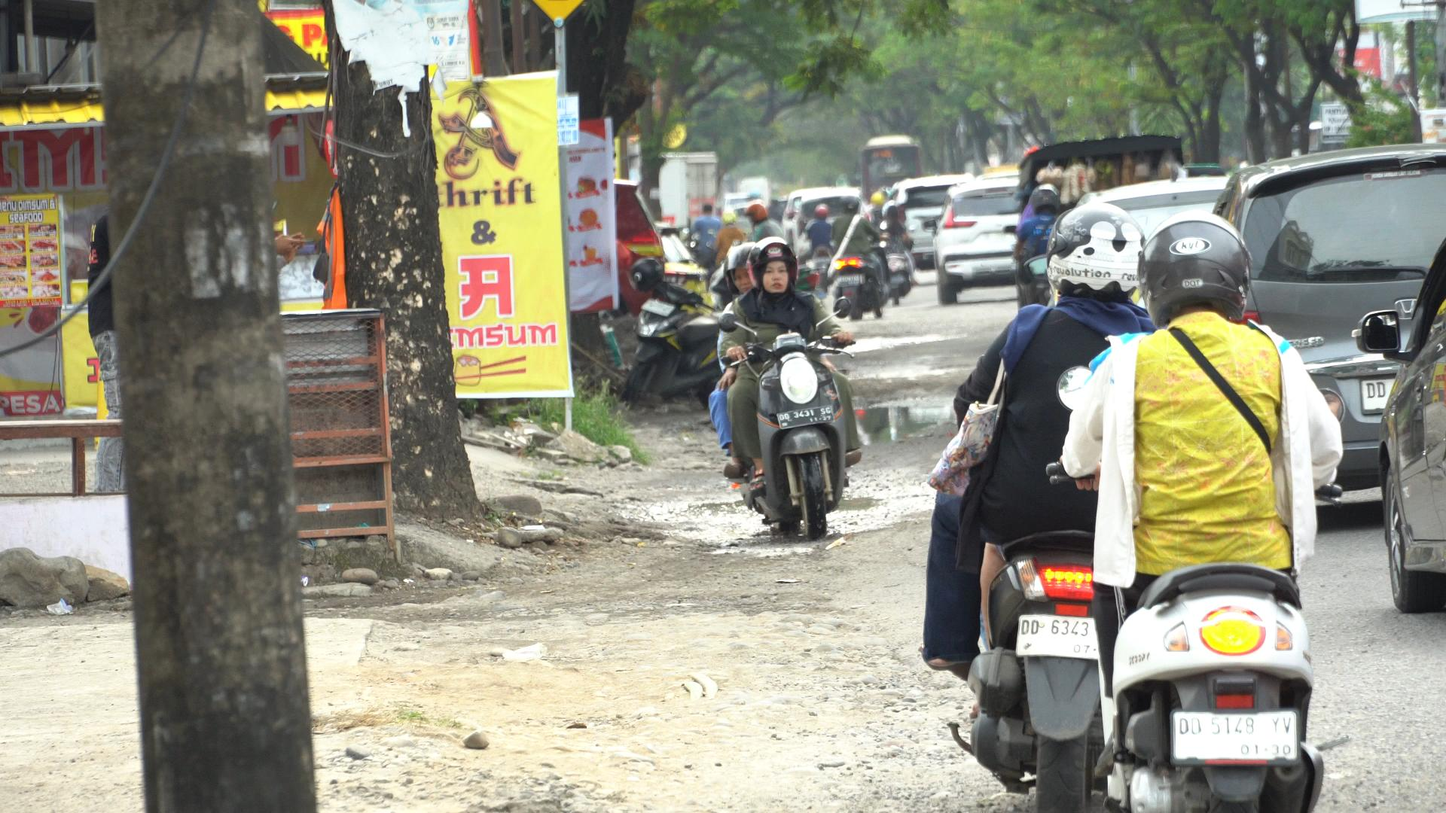number-plate: (778, 404, 833, 430)
